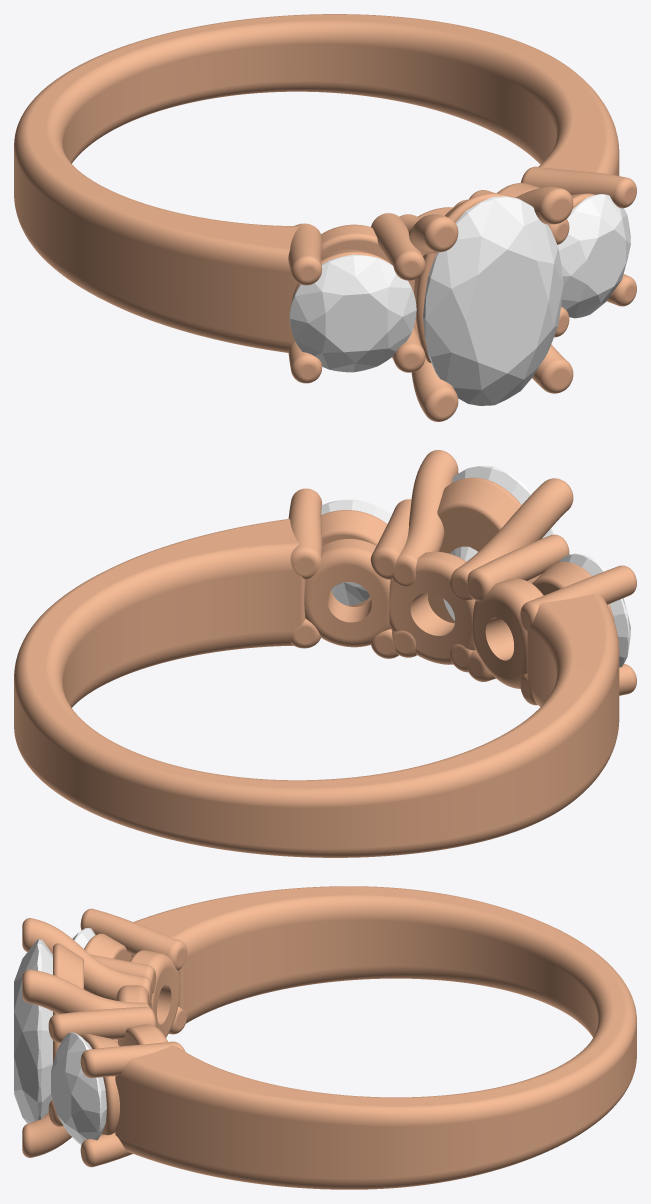
3 renders of one model, top to bottom at view 1: azimuth 30°, elevation 25°; view 2: azimuth 150°, elevation 25°; view 3: azimuth 270°, elevation 25°, orthographic. The views are drawn at different scales.
Parts seen in each view (by area): view 1: Metal_01, Diamond_Oval, Diamond_Round, Diamond_Round_2; view 2: Metal_01, Diamond_Oval, Diamond_Round_2, Diamond_Round; view 3: Metal_01, Diamond_Oval, Diamond_Round_2.
Part boxes in pixels (x1,y1,x2,y2): Metal_01: (14,14,636,421); Diamond_Oval: (423,196,563,405); Diamond_Round: (289,254,416,372); Diamond_Round_2: (557,194,630,318); Metal_01: (14,450,636,857); Diamond_Oval: (443,466,553,620); Diamond_Round_2: (321,499,391,605); Diamond_Round: (560,553,630,667); Metal_01: (22,886,636,1189); Diamond_Oval: (14,939,52,1123); Diamond_Round_2: (51,1032,106,1144).
Size of the model in its own units: 2.55 by 0.9736 by 2.93.
